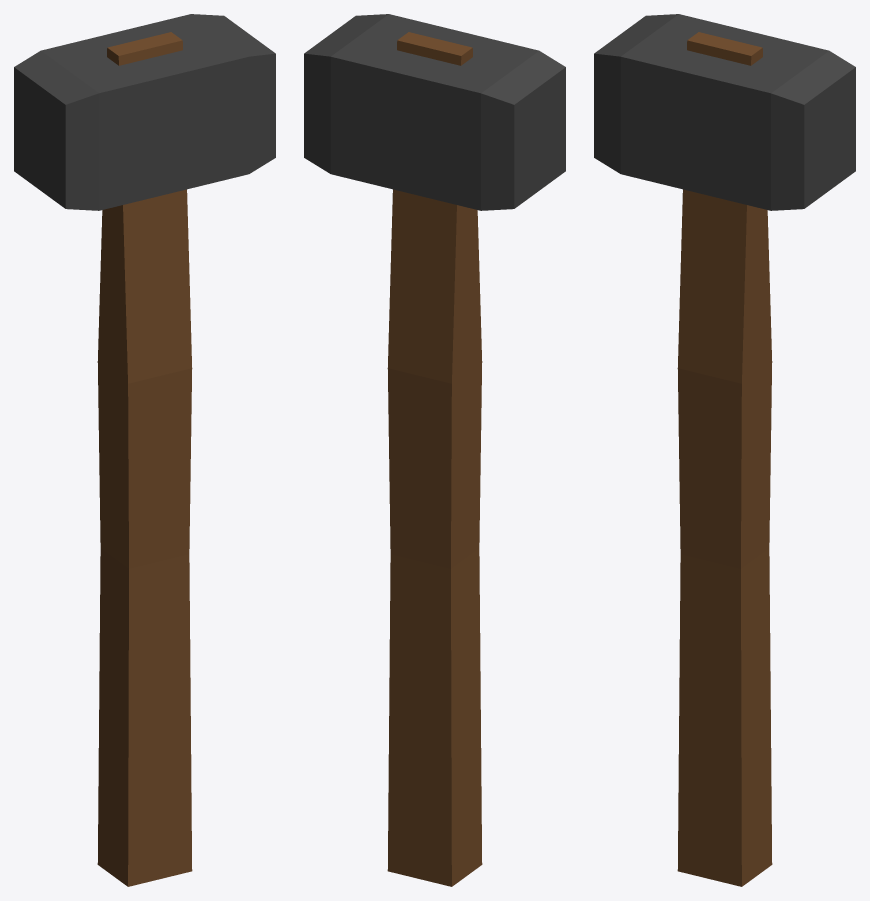
The model's file is SledgeHammer.fbx.
3 renders of one model, left to right at view 1: azimuth 30°, elevation 25°; view 2: azimuth 150°, elevation 25°; view 3: azimuth 330°, elevation 25°, orthographic.
Parts seen in each view (by area): view 1: SledgeHammer; view 2: SledgeHammer; view 3: SledgeHammer.
Part boxes in pixels (x1=…): SledgeHammer: x1=14, y1=14, x2=275, y2=886; SledgeHammer: x1=304, y1=14, x2=565, y2=886; SledgeHammer: x1=594, y1=14, x2=855, y2=886.
Size of the model in its own units: 0.2274 by 0.8517 by 0.1092.
